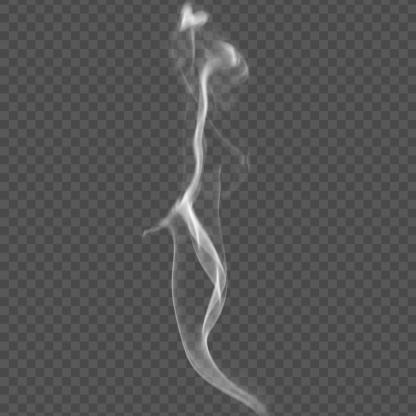smoke: (166, 3, 243, 390)
